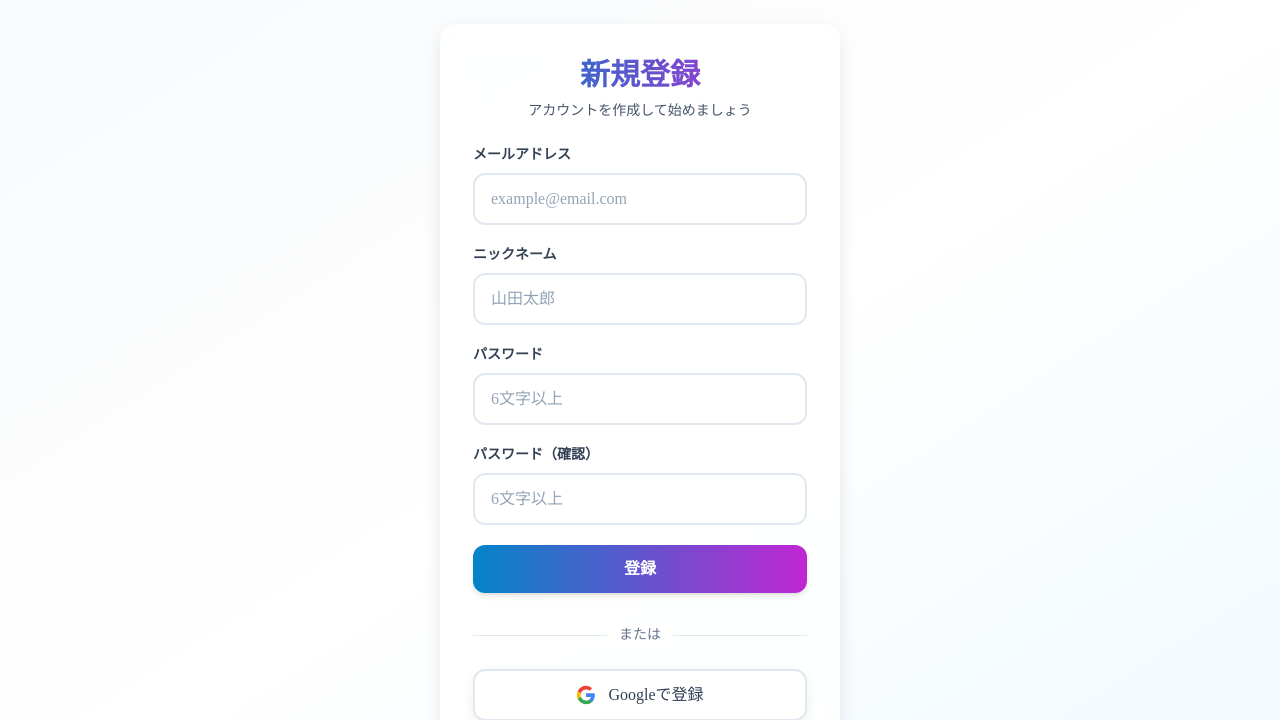
Test: SignupForm › パスワードが6文字未満の場合はエラーを表示する
This screenshot has width=1280, height=720.
In the field labelled "メールアドレス": (640,199) [473,173,807,225], type "test@example.com"
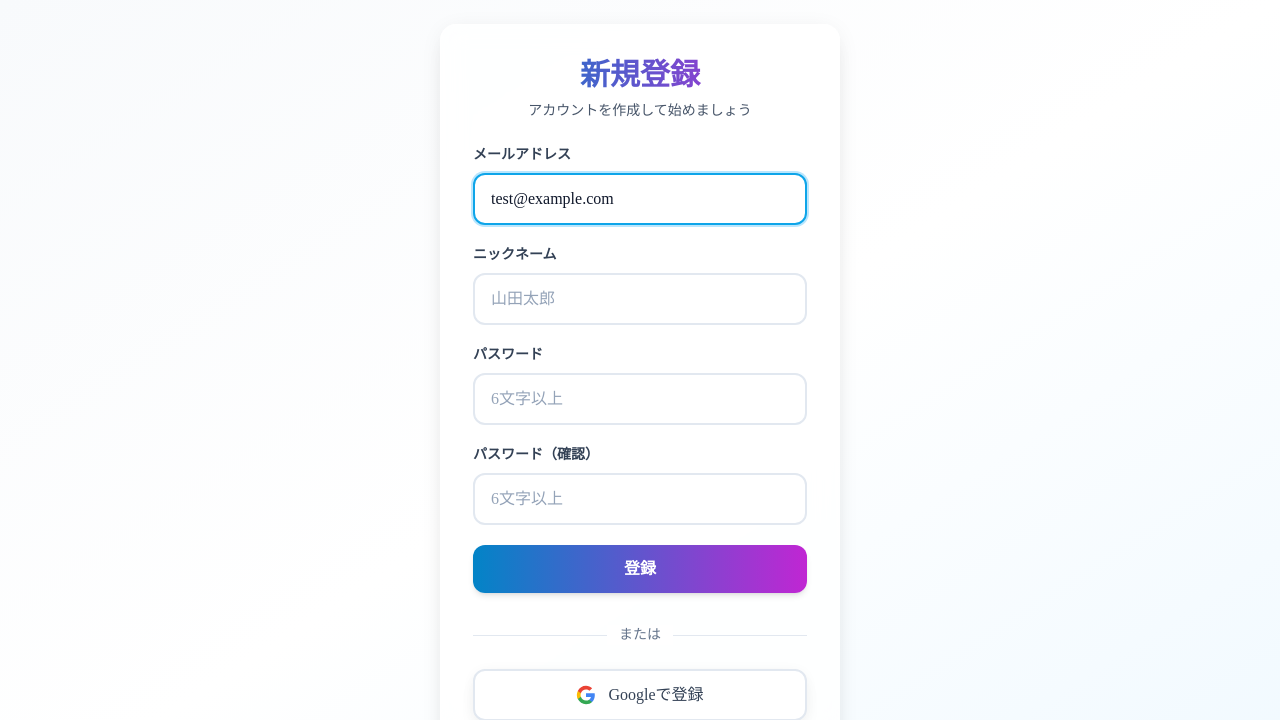
In the field labelled "ニックネーム": (640,299) [473,273,807,325], type "テストユーザー"
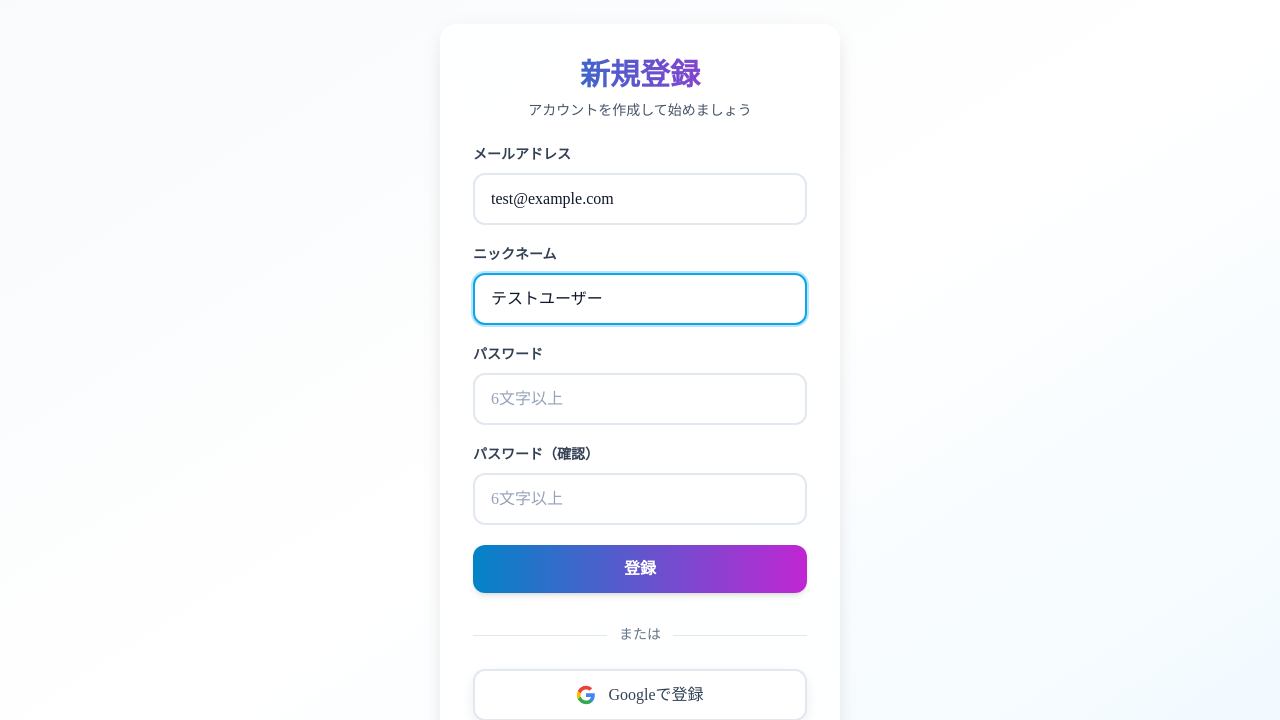
In the password field labelled "パスワード": (640,399) [473,373,807,425], type "12345"
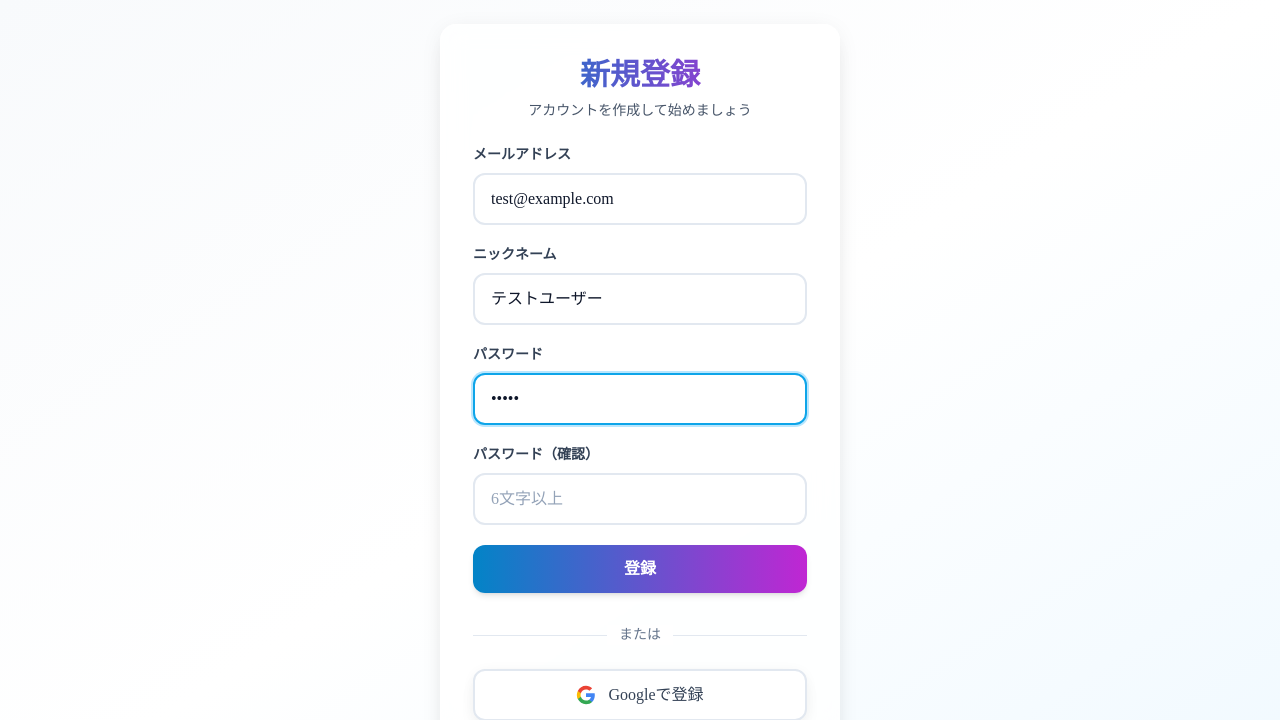
In the password field labelled "パスワード（確認）": (640,499) [473,473,807,525], type "12345"
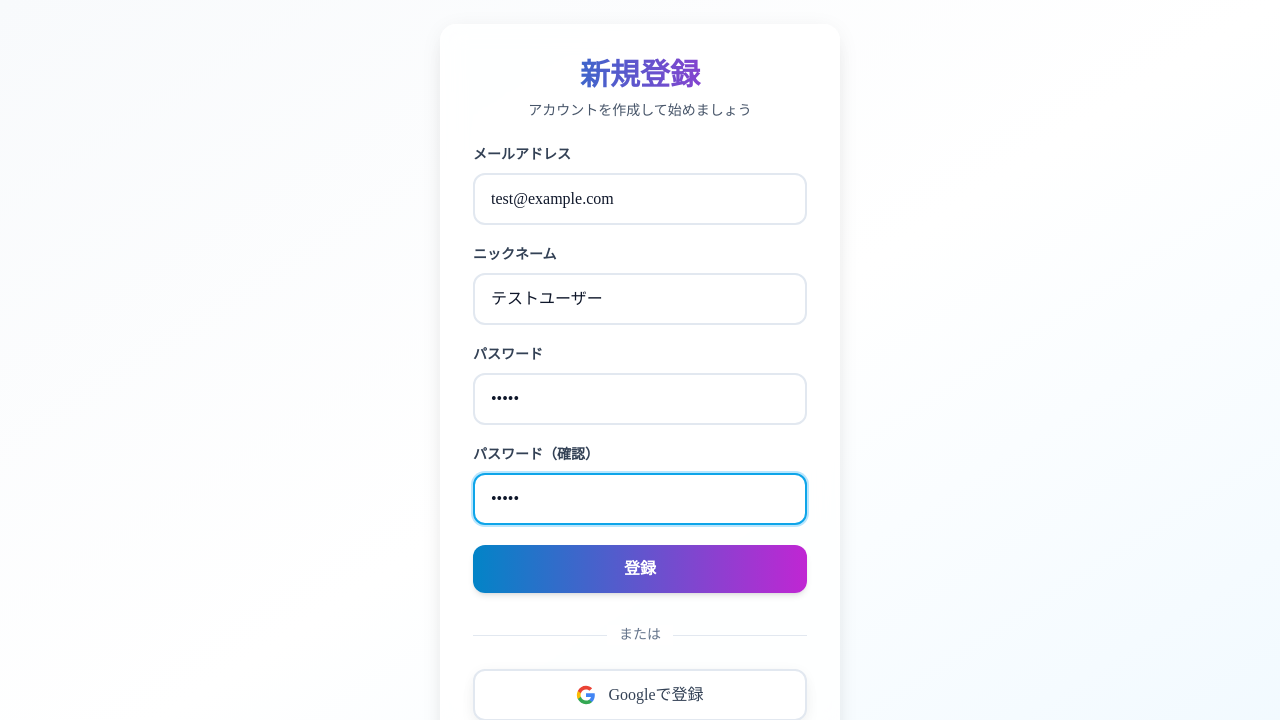
Click the button "登録": (640,569) [473,545,807,593]
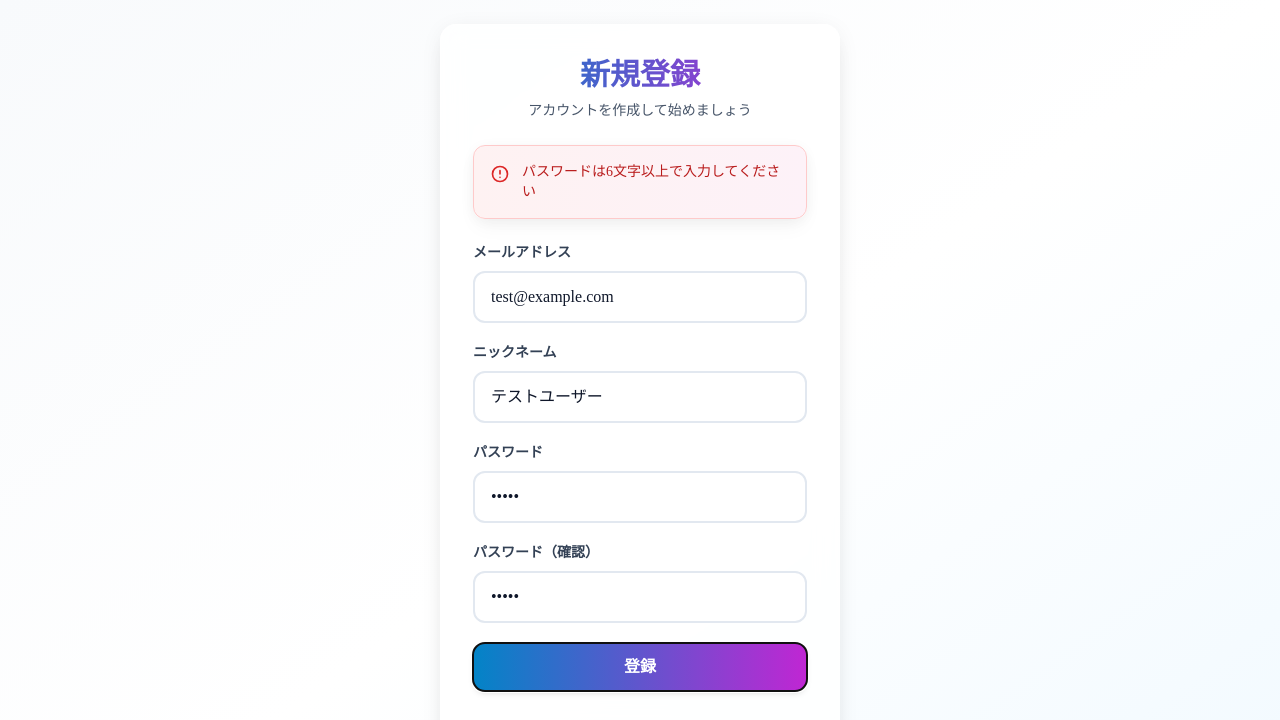
expect the text "パスワードは6文字以上で入力してください" is shown: met, box [522,162,790,202]
